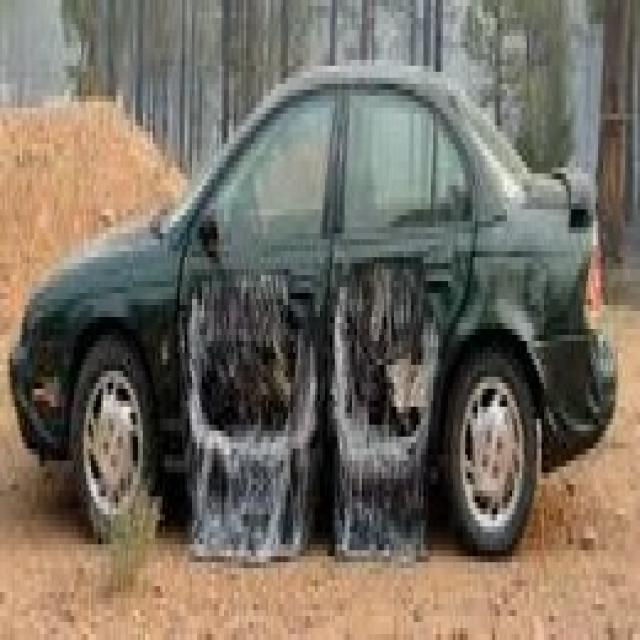moderate: (168, 230, 486, 601)
